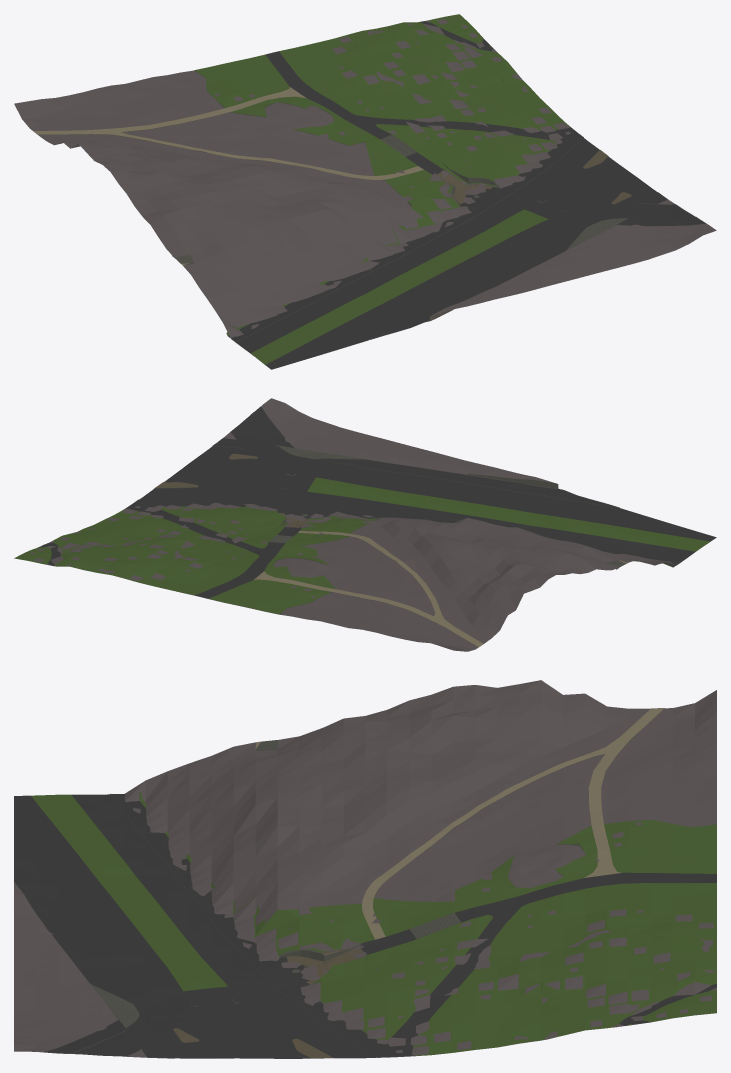
3 renders of one model, top to bottom at view 1: azimuth 30°, elevation 25°; view 2: azimuth 150°, elevation 25°; view 3: azimuth 270°, elevation 25°, orthographic. The views are drawn at different scales.
Parts seen in each view (by area): view 1: c_m06_m15; view 2: c_m06_m15; view 3: c_m06_m15.
Boxes of the visible parts, <box> form: c_m06_m15: <box>14,14,716,369</box>; c_m06_m15: <box>14,398,716,651</box>; c_m06_m15: <box>14,680,716,1058</box>.
Size of the model in its own units: 128 by 23.31 by 128.
